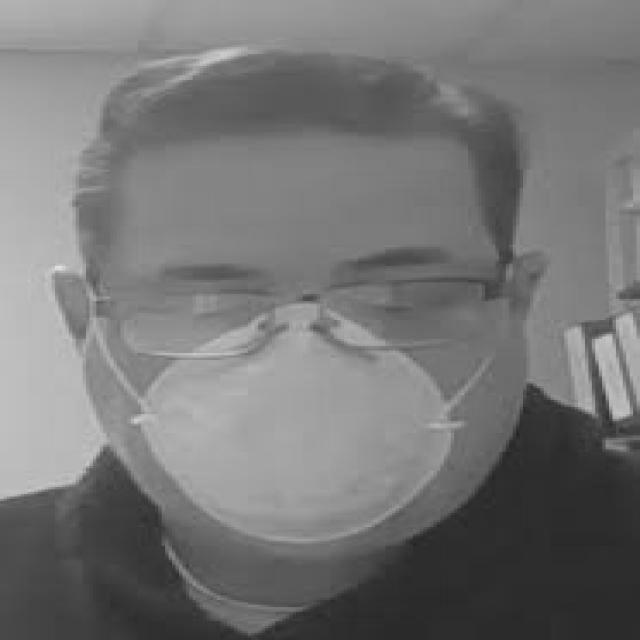fake: (137, 304, 471, 548)
real: (83, 141, 530, 575)
